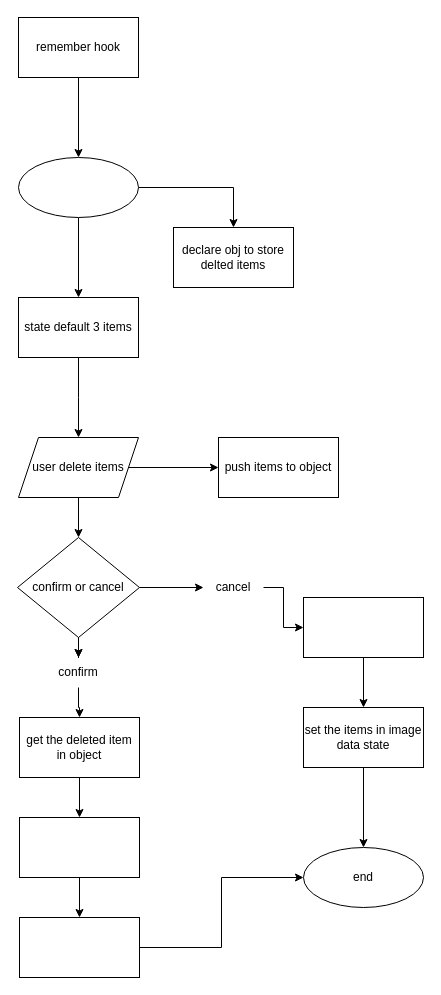
The diagram is 441 pixels wide and 995 high, and some of its shapes have lost their labels. The shapes that lost their labels are listed below. From the top down, each one's centre as x and y in pixels, then its label:
At point 78,187: "start".
At point 363,627: "get the item from object".
At point 79,847: "delete the item from cloud".
At point 79,947: "upload new set of images".
